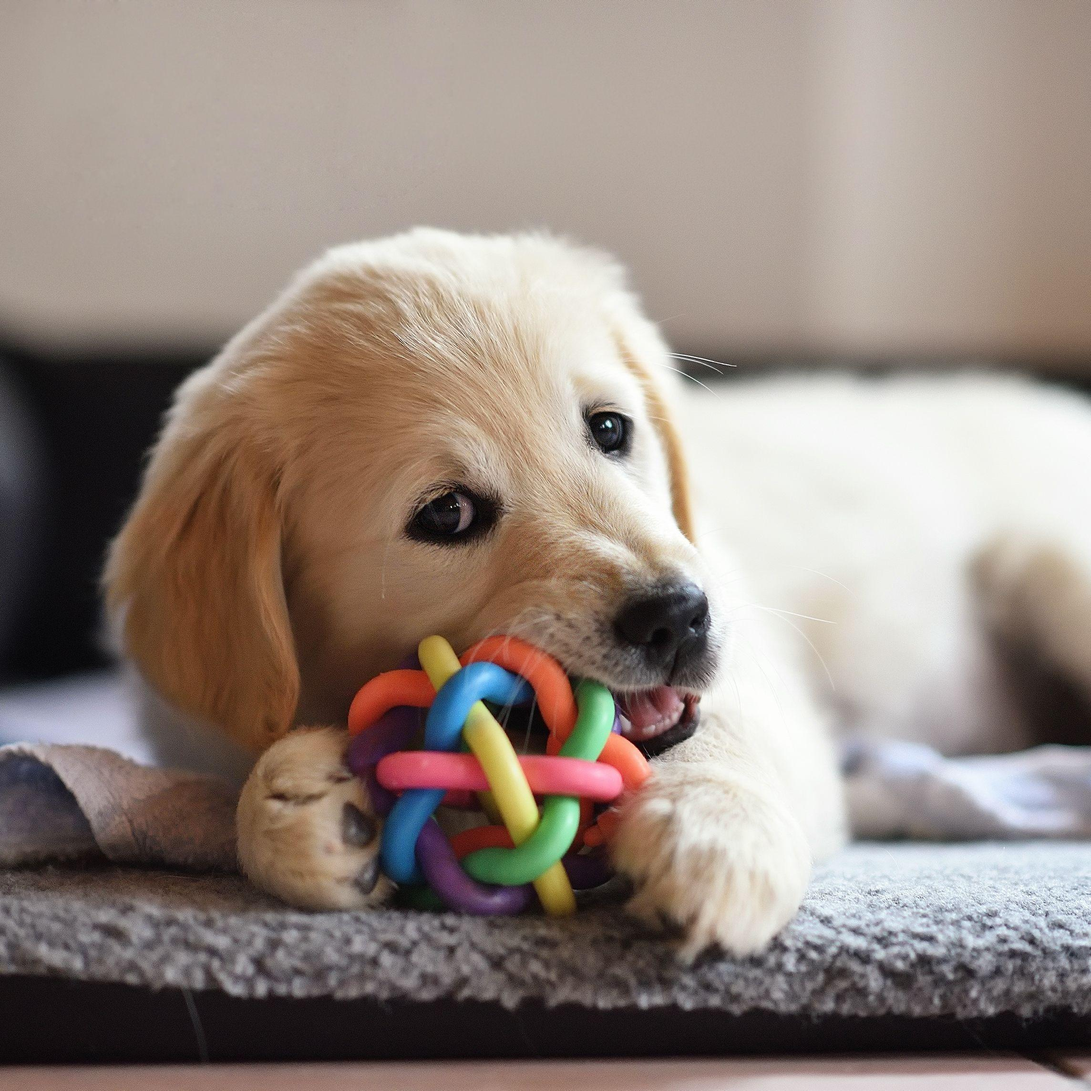puppy-dog: (102, 225, 1091, 962)
